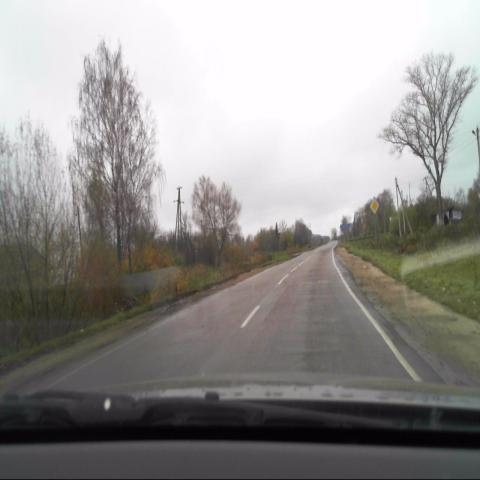2_1: (370, 197, 378, 214)
